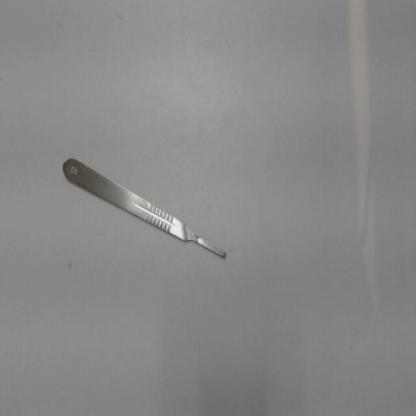No.4 BP Handle: (58, 143, 232, 273)
